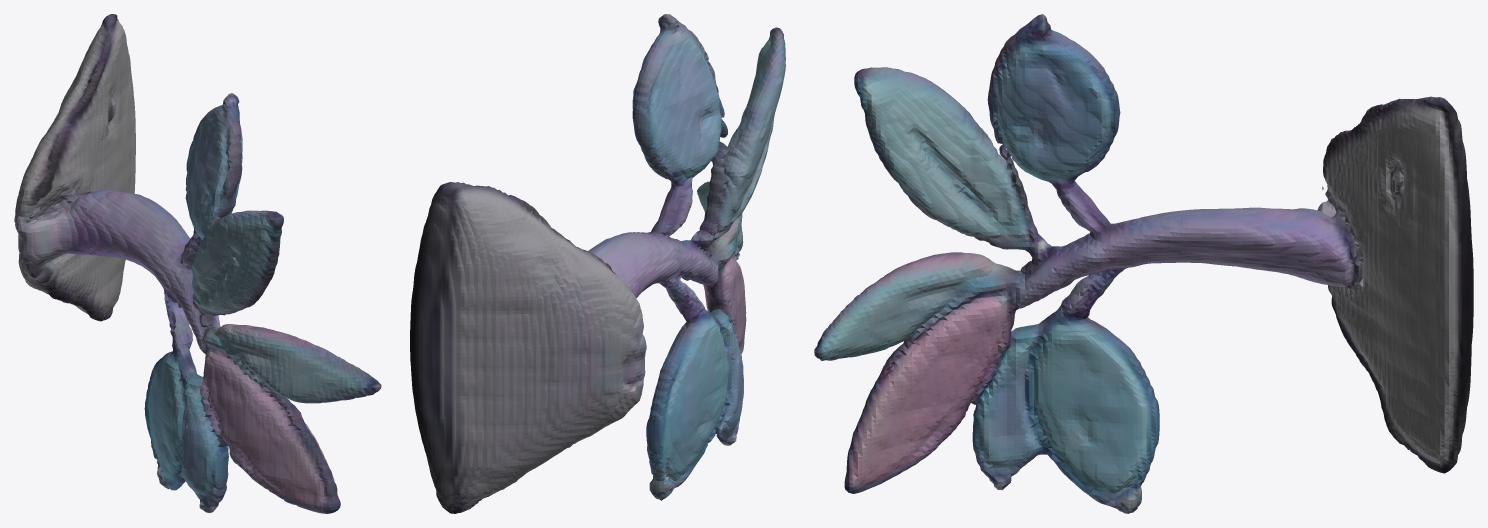
The model's file is triposr_alien_plant.glb.
3 renders of one model, left to right at view 1: azimuth 30°, elevation 25°; view 2: azimuth 150°, elevation 25°; view 3: azimuth 270°, elevation 25°, orthographic. The views are drawn at different scales.
Visible parts, largest first — view 1: geometry_0; view 2: geometry_0; view 3: geometry_0.
Boxes of the visible parts, <box> form: geometry_0: <box>14,14,381,513</box>; geometry_0: <box>410,14,785,513</box>; geometry_0: <box>814,14,1473,513</box>.
Bounding box in the file's own units: 0.3603 × 0.8628 × 0.9972.
